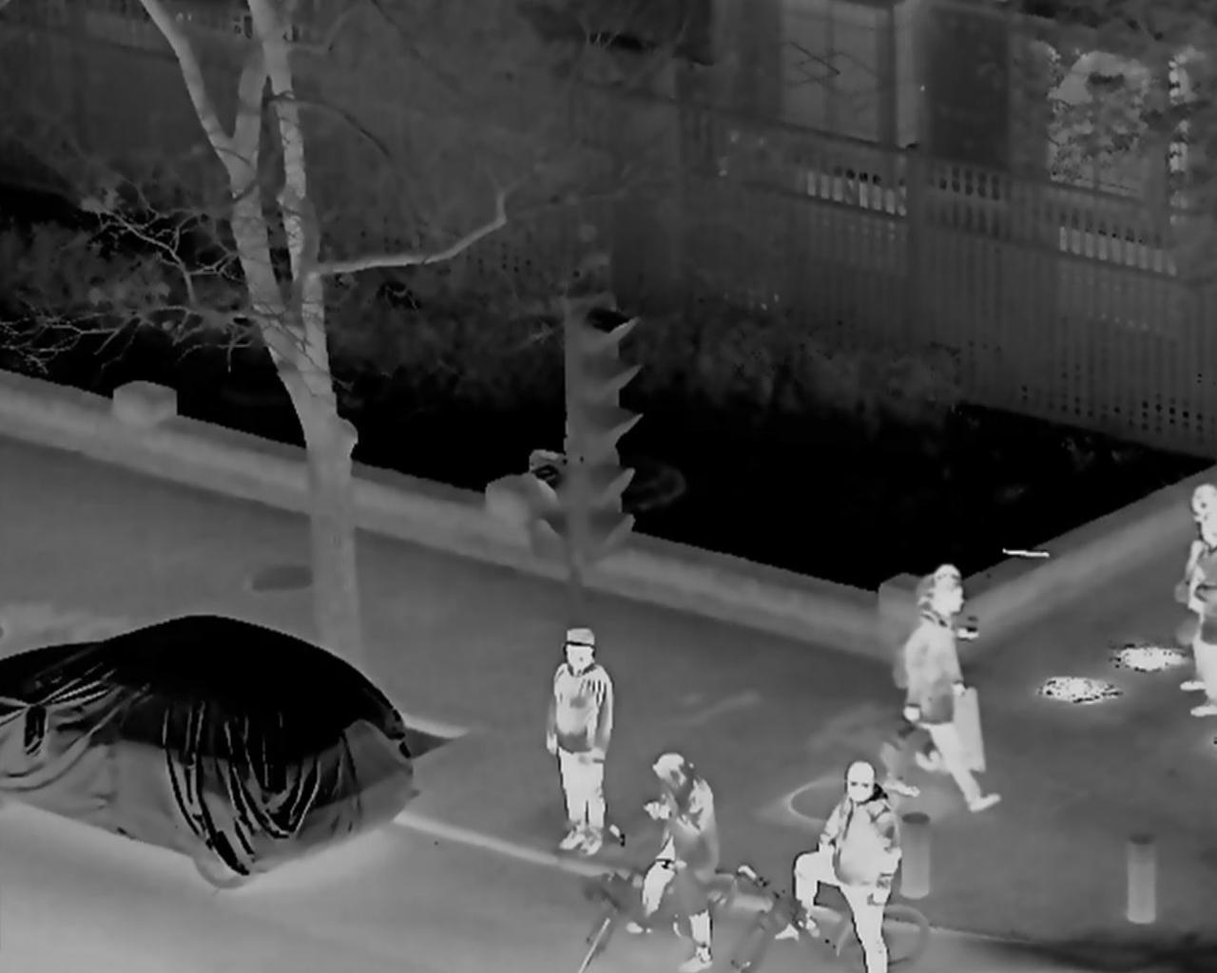person: (782, 757, 903, 973), (889, 580, 999, 806), (632, 755, 720, 967), (898, 566, 980, 771), (540, 625, 610, 851), (1183, 482, 1217, 723)
